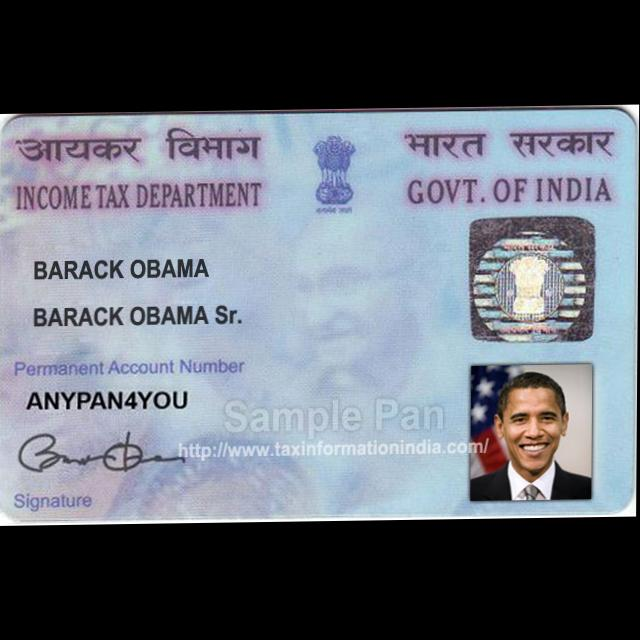pan: (0, 107, 639, 526)
